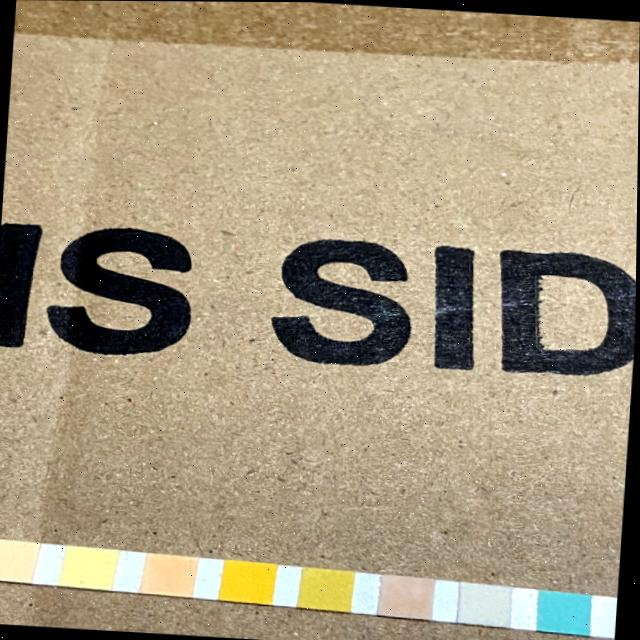Bilirubin: (461, 583, 513, 624)
Blood: (225, 559, 277, 601)
Glucose: (540, 591, 594, 632)
Ketone: (380, 576, 436, 616)
Protein: (66, 546, 117, 588)
SpGravity: (302, 568, 357, 611)
Urobilinogen: (0, 539, 38, 581)
pH: (146, 554, 198, 595)
